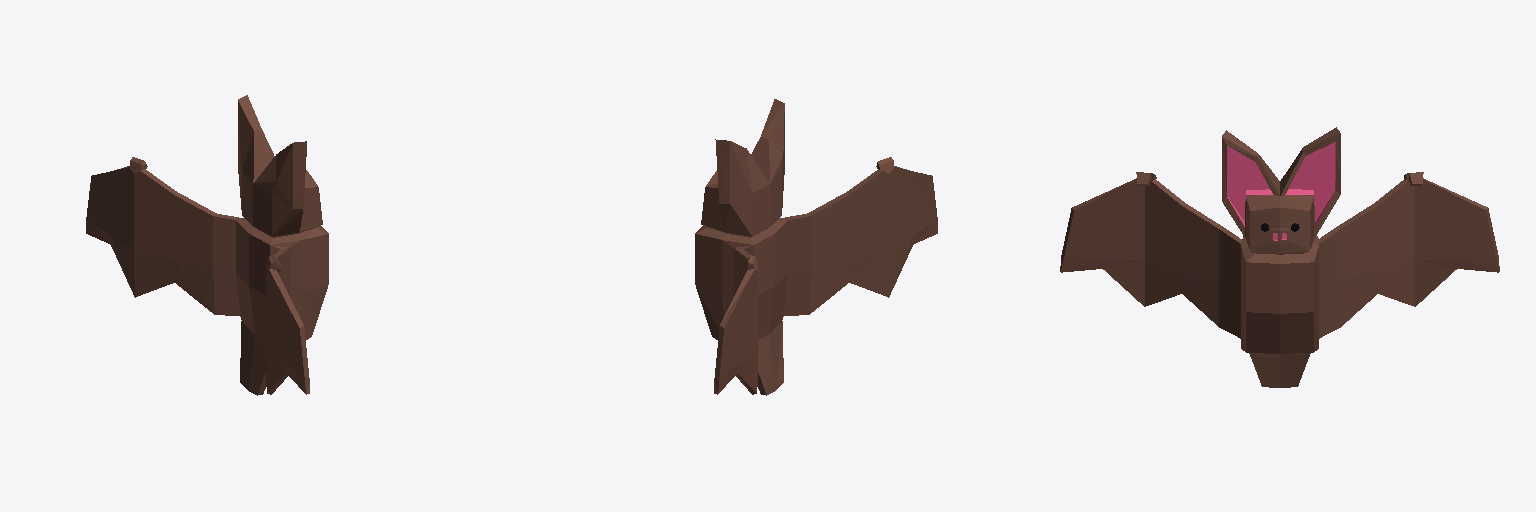
Rendered from Bat_01.obj.
3 renders of one model, left to right at view 1: azimuth 30°, elevation 25°; view 2: azimuth 150°, elevation 25°; view 3: azimuth 270°, elevation 25°, orthographic.
Parts seen in each view (by area): view 1: Bat_01_Cube.034; view 2: Bat_01_Cube.034; view 3: Bat_01_Cube.034.
Part boxes in pixels (left/top/right/bottom): Bat_01_Cube.034: left=86, top=95, right=328, bottom=395; Bat_01_Cube.034: left=695, top=99, right=937, bottom=395; Bat_01_Cube.034: left=1060, top=127, right=1499, bottom=387.
Bounding box in the file's own units: 7.82 × 16.48 × 24.6.